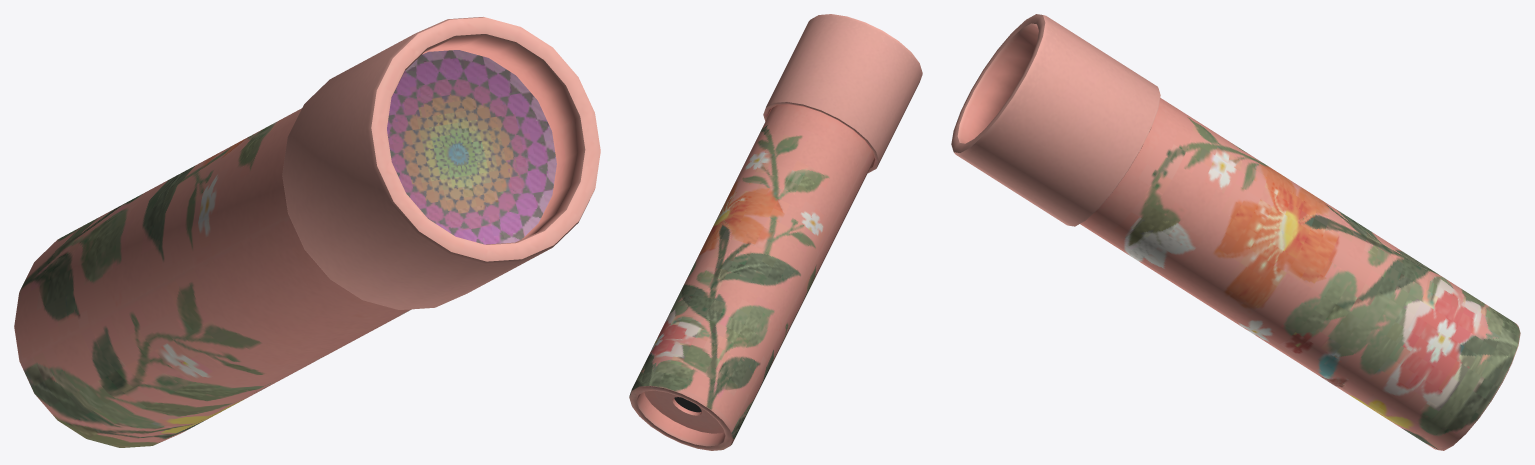
The model's file is GTKaleidoscope.obj.
The picture shows the model from 3 angles, left to right: view 1: azimuth 30°, elevation 25°; view 2: azimuth 150°, elevation 25°; view 3: azimuth 270°, elevation 25°; orthographic projection. The views are drawn at different scales.
Parts seen in each view (by area): view 1: wanhuatong; view 2: wanhuatong; view 3: wanhuatong.
Part boxes in pixels (x1,y1,x2,y2): wanhuatong: [14, 17, 600, 447]; wanhuatong: [629, 14, 922, 450]; wanhuatong: [951, 14, 1520, 450].
Bounding box in the file's own units: 0.7791 × 2.18 × 2.67.
